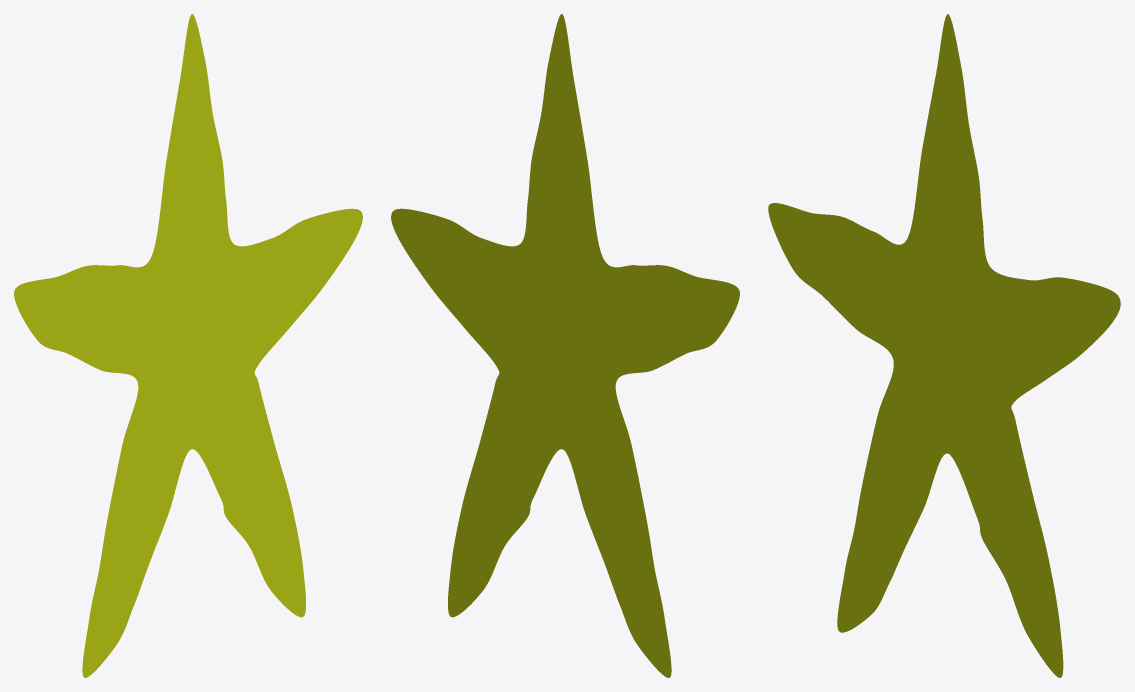
The model's file is stella.obj.
The picture shows the model from 3 angles, left to right: view 1: azimuth 30°, elevation 25°; view 2: azimuth 150°, elevation 25°; view 3: azimuth 330°, elevation 25°; orthographic projection.
Visible parts, largest first — view 1: Curva_1; view 2: Curva_1; view 3: Curva_1.
Boxes of the visible parts, x1,y1,x2,y2 form: Curva_1: [14, 14, 362, 677]; Curva_1: [391, 14, 739, 677]; Curva_1: [768, 14, 1120, 677].
Size of the model in its own units: 0.1888 by 0.33 by 0.
